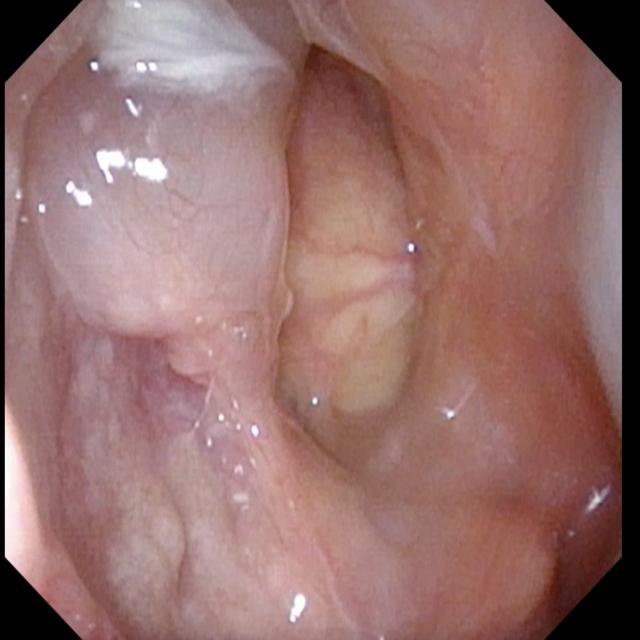POLYPS: (35, 55, 280, 330), (292, 39, 413, 448), (22, 394, 167, 640)
